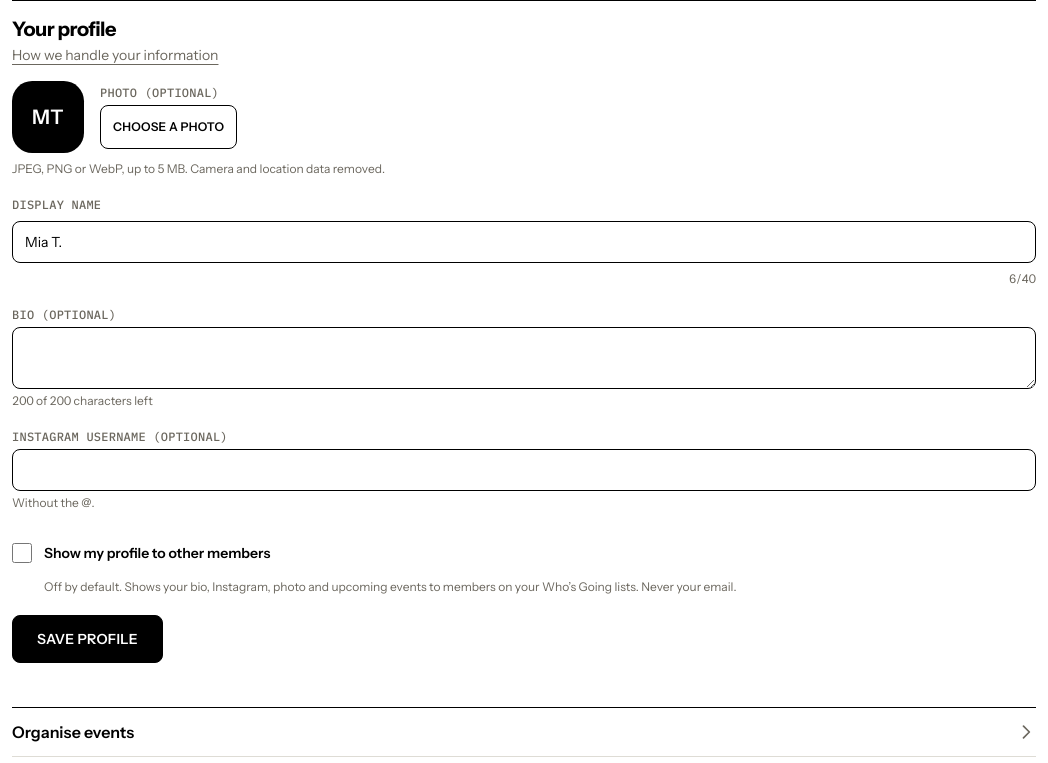
Test case: AccountContent › offers Sign in, back to /account, when the session has expired
Replace the text in the field labelled "Display name" with "Mia" at {"x": 524, "y": 242}, box [12,221,1036,263]
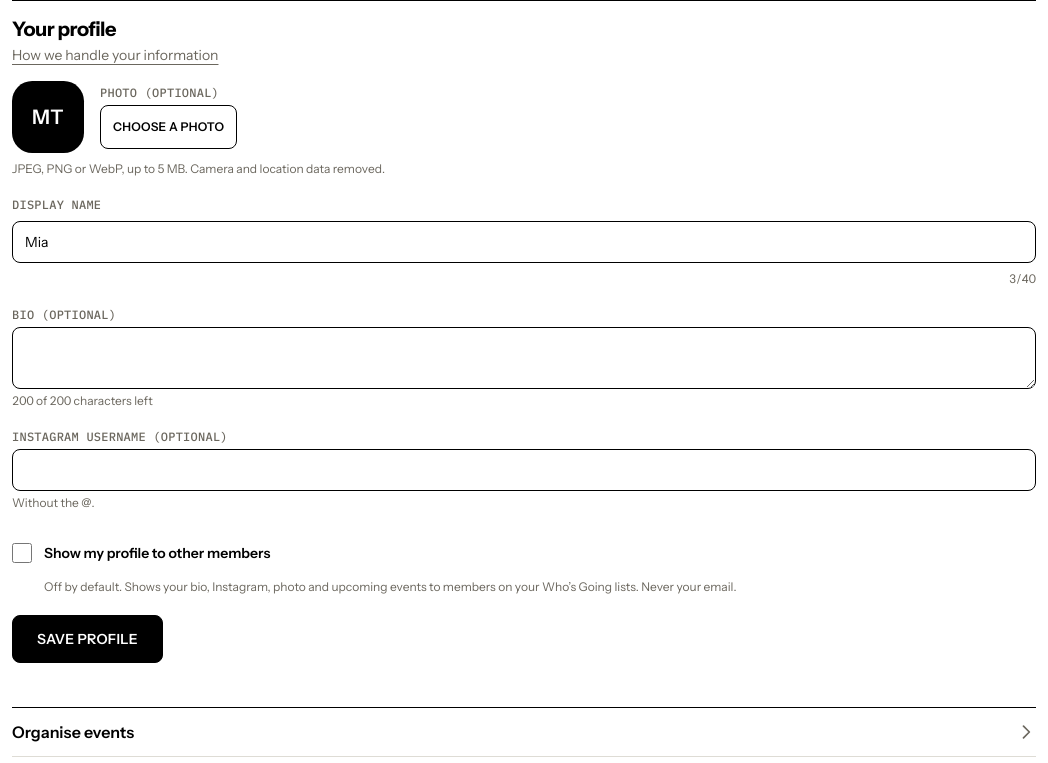
Click the button "Save profile" at {"x": 87, "y": 639}, box [12,615,163,663]
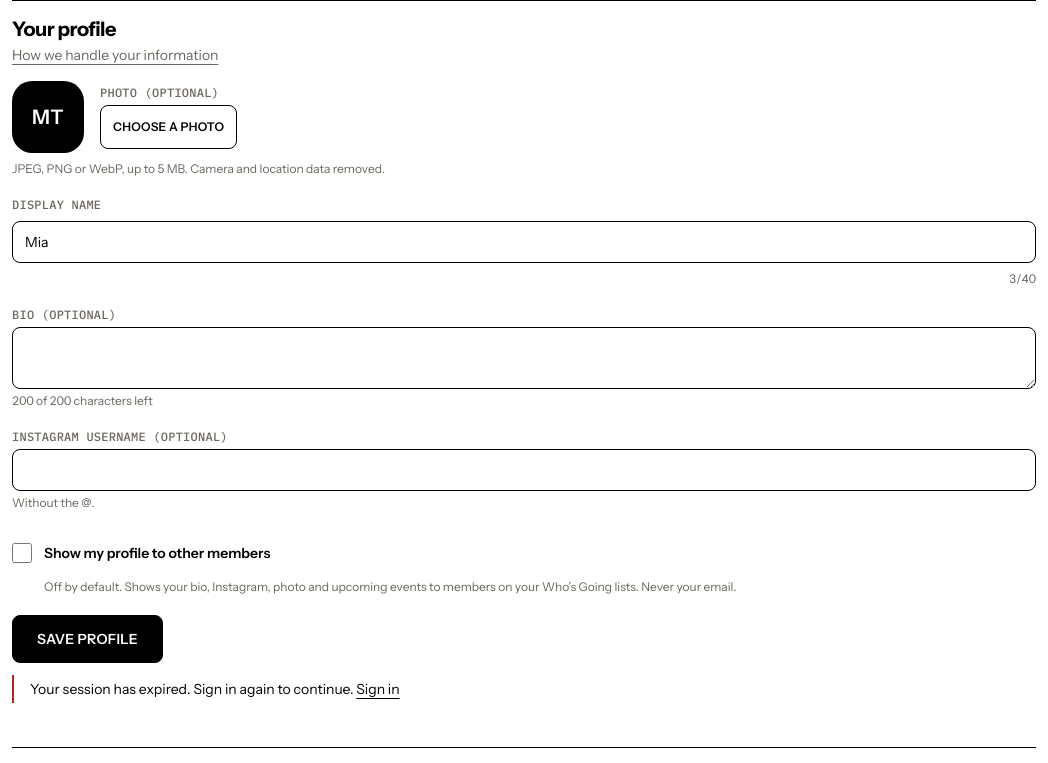
expect the message shows "Your session has expired. Sign in again to continue.": met, box [30,680,354,698]
